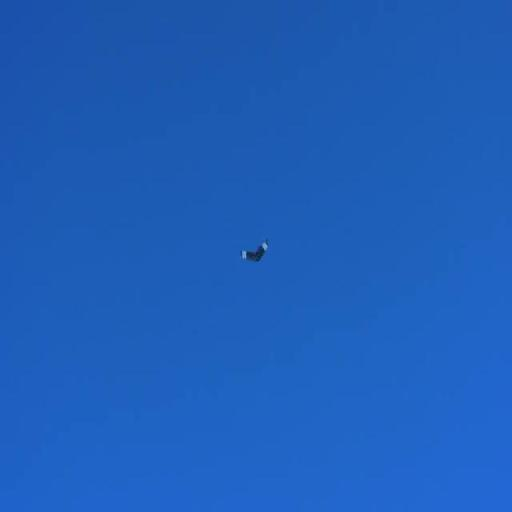uav: (237, 234, 272, 272)
